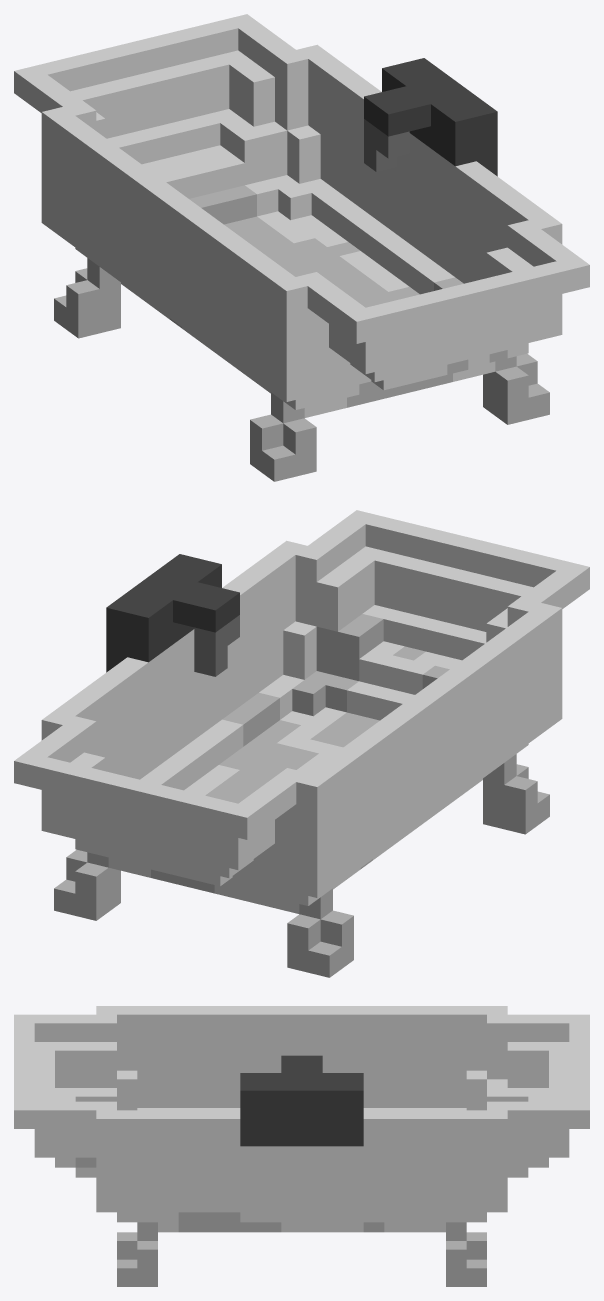
File: baignoire2.obj
The picture shows the model from 3 angles, top to bottom: view 1: azimuth 30°, elevation 25°; view 2: azimuth 150°, elevation 25°; view 3: azimuth 270°, elevation 25°; orthographic projection. The views are drawn at different scales.
Parts seen in each view (by area): view 1: baignoire2; view 2: baignoire2; view 3: baignoire2.
Boxes of the visible parts, x1=… form: baignoire2: x1=14, y1=14, x2=589, y2=481; baignoire2: x1=14, y1=510, x2=589, y2=977; baignoire2: x1=14, y1=1006, x2=589, y2=1286.
Bounding box in the file's own units: 14 × 11 × 28.
Materials: 1 (1 with a texture image).
